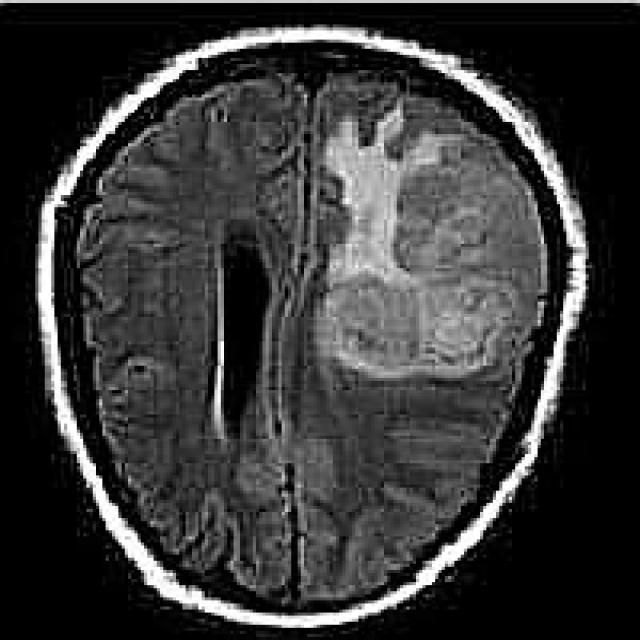Tumor-Cell: (337, 124, 540, 394)
